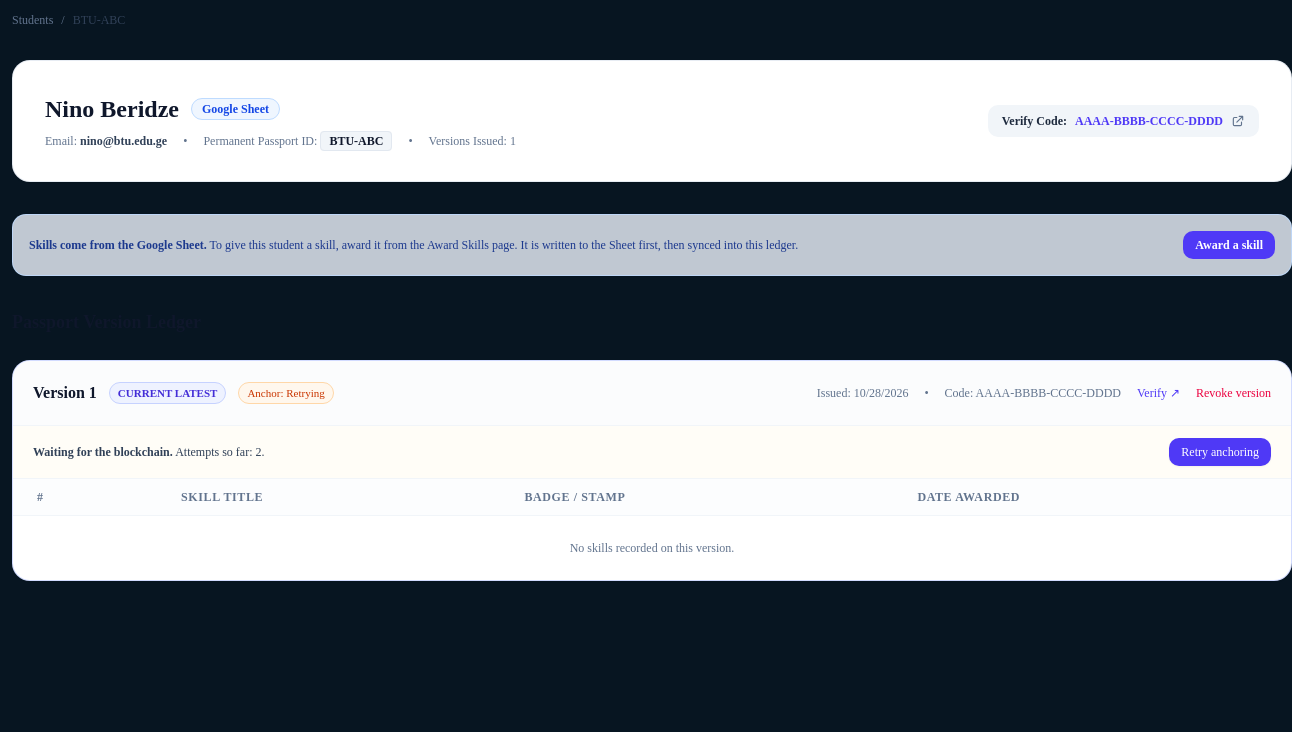
Test: admin student detail anchoring › shows the API error when the retry is refused
This screenshot has width=1292, height=732.
Click the button "Retry anchoring".
click(1220, 452)  # box [1169,438,1271,466]
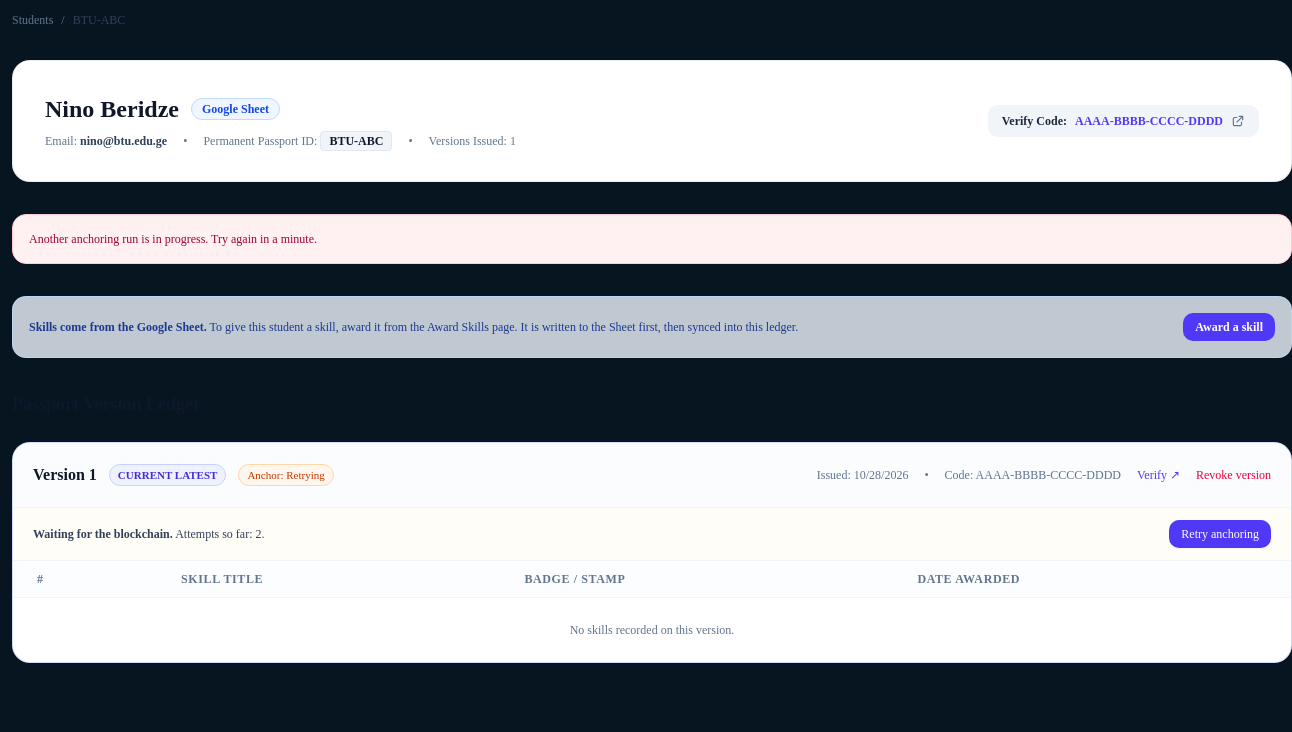
Result: the message shows "Another anchoring run is in progress" at [29,232,317,246]
